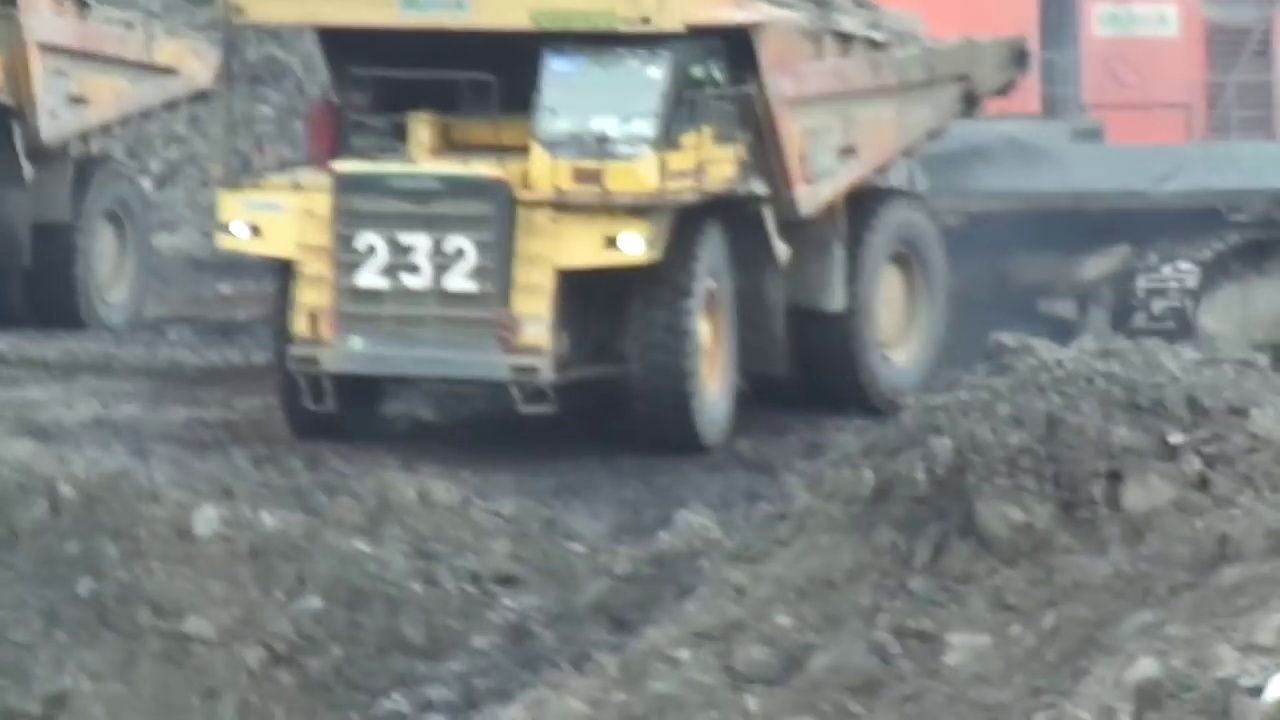dumper: (226, 4, 1033, 455), (4, 1, 230, 340)
